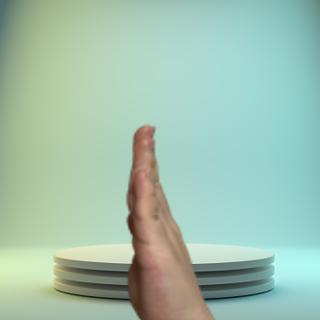RIGHT: (119, 117, 217, 320)
